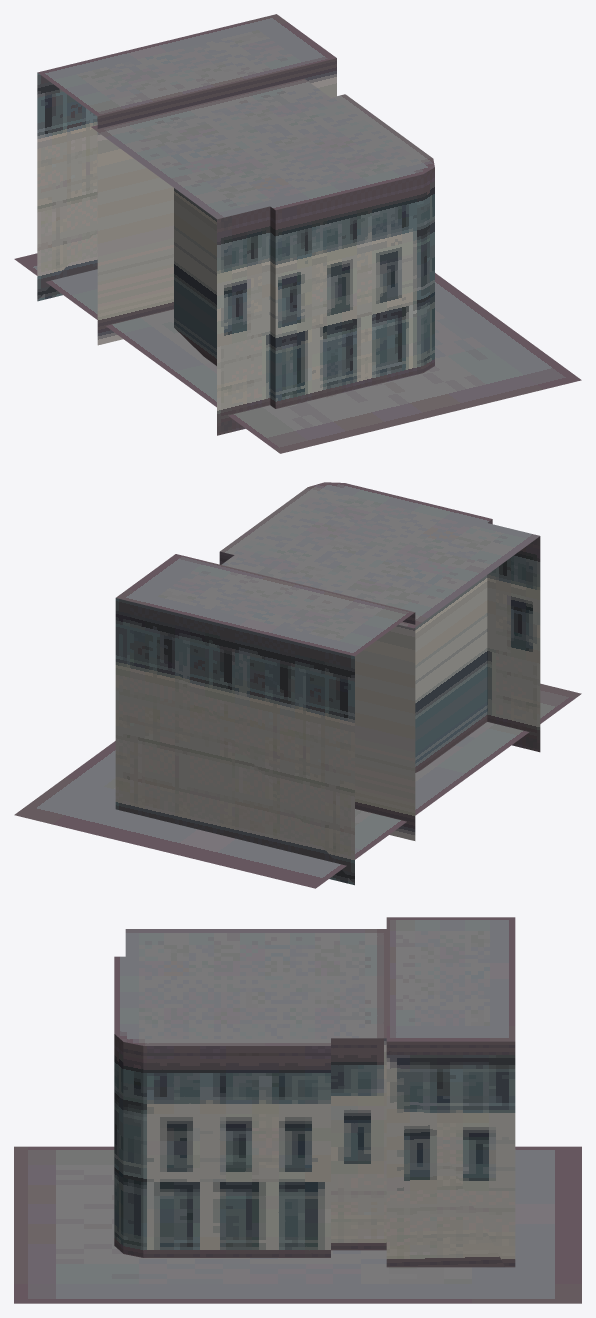
Rendered from loda19.obj.
The picture shows the model from 3 angles, top to bottom: view 1: azimuth 30°, elevation 25°; view 2: azimuth 150°, elevation 25°; view 3: azimuth 270°, elevation 25°; orthographic projection. The views are drawn at different scales.
Parts seen in each view (by area): view 1: LODA19; view 2: LODA19; view 3: LODA19.
Part boxes in pixels (<box>): LODA19: <box>14,14,581,453</box>; LODA19: <box>14,482,581,888</box>; LODA19: <box>14,917,581,1303</box>.
Size of the model in its own units: 38.73 by 27.11 by 57.17.
4 materials, 4 textured.
